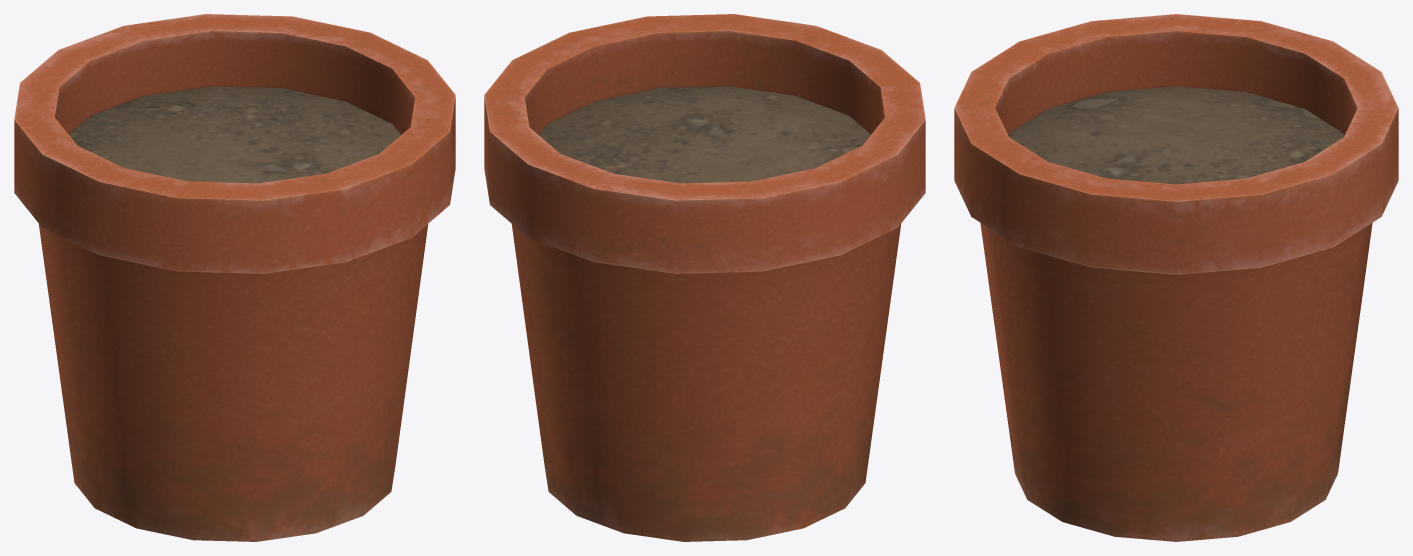
Rendered from sb_obj_indoor046_FlowerPot01.fbx.
The picture shows the model from 3 angles, left to right: view 1: azimuth 30°, elevation 25°; view 2: azimuth 150°, elevation 25°; view 3: azimuth 270°, elevation 25°; orthographic projection.
Visible parts, largest first — view 1: sb_obj_indoor046_FlowerPot01; view 2: sb_obj_indoor046_FlowerPot01; view 3: sb_obj_indoor046_FlowerPot01.
Part boxes in pixels (box(x1,y1,x2,y2)): sb_obj_indoor046_FlowerPot01: box(14, 14, 455, 541); sb_obj_indoor046_FlowerPot01: box(484, 14, 925, 541); sb_obj_indoor046_FlowerPot01: box(954, 14, 1398, 541).
Bounding box in the file's own units: 0.33 × 0.3 × 0.33.
